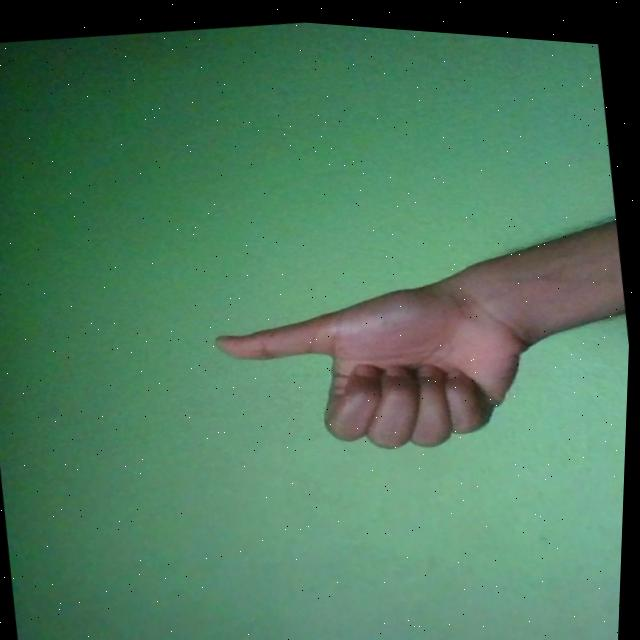Good Job: (208, 253, 550, 475)
